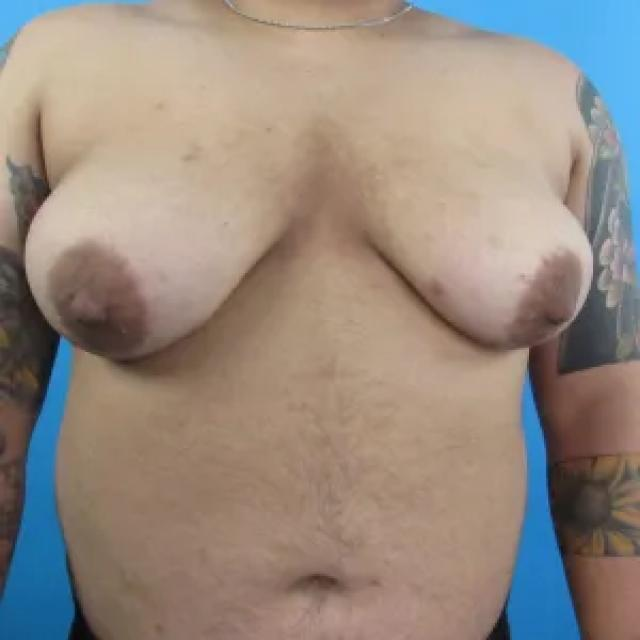Seno ileso: (17, 136, 311, 382), (332, 137, 600, 368)
